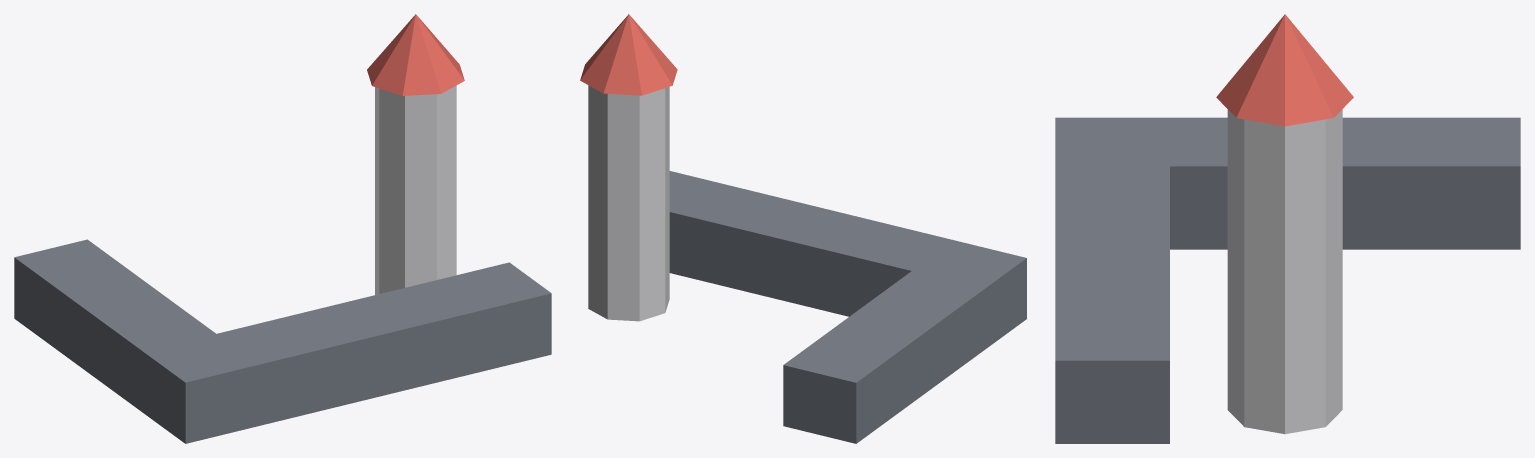
File: naval_base.glb
3 views of the same model, side by side, from view 1: azimuth 30°, elevation 25°; view 2: azimuth 150°, elevation 25°; view 3: azimuth 270°, elevation 25° (orthographic). The views are drawn at different scales.
Parts seen in each view (by area): view 1: naval_base; view 2: naval_base; view 3: naval_base.
Boxes of the visible parts, <box> form: naval_base: <box>14,14,551,443</box>; naval_base: <box>580,14,1026,443</box>; naval_base: <box>1055,14,1520,443</box>.
Bounding box in the file's own units: 0.5 × 0.38 × 0.405.
